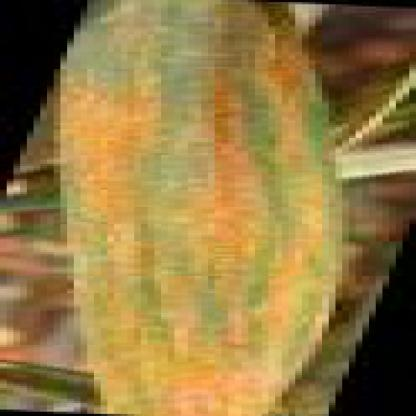Wheat Brown-rust: (77, 58, 319, 152), (80, 161, 336, 241), (113, 245, 316, 306), (154, 323, 283, 409)
